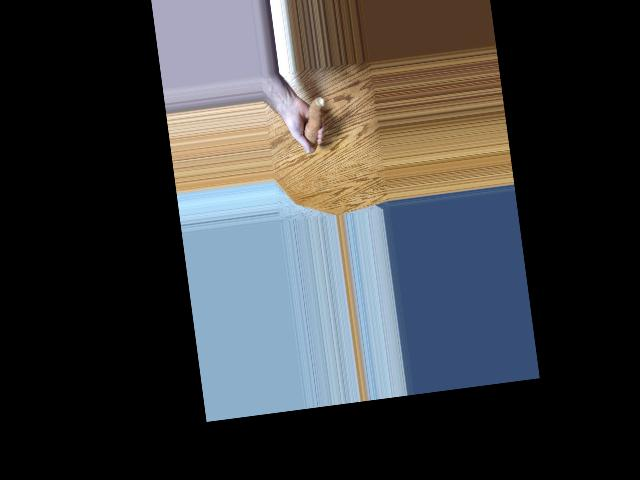sweet_potato: (299, 93, 330, 156)
